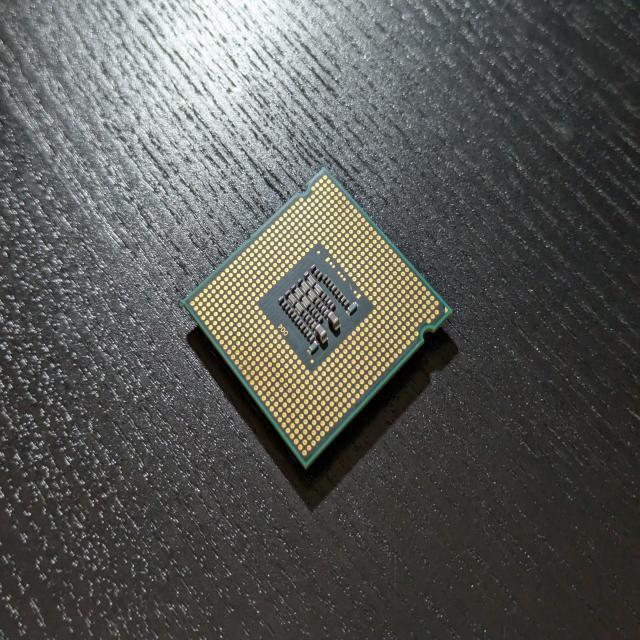CPU: (180, 166, 454, 470)
